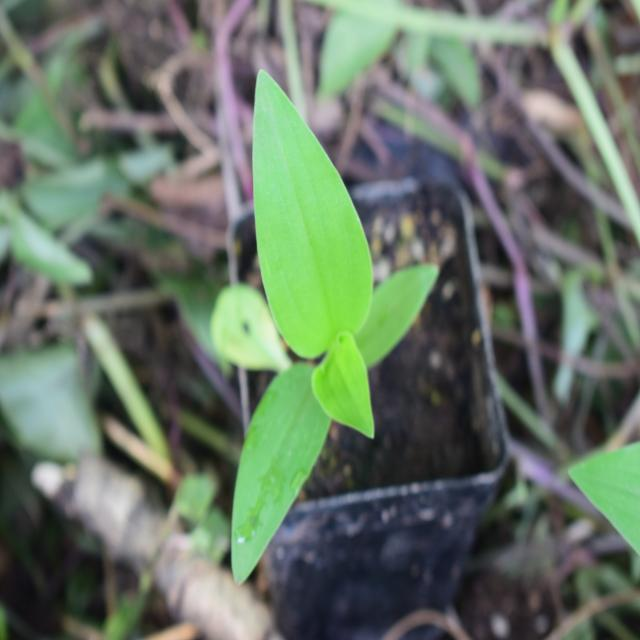Common Dayflower: (185, 73, 438, 550)
